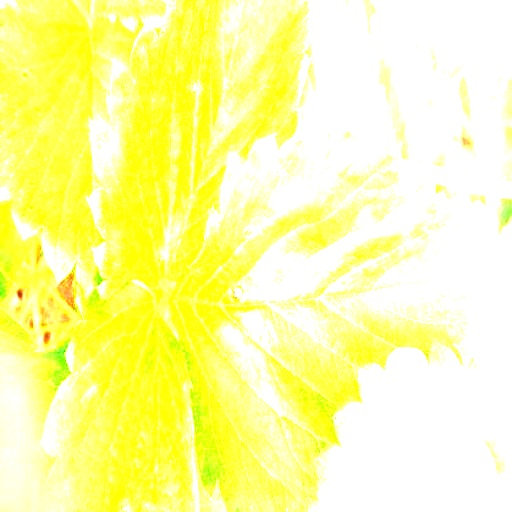Leaf Spot: (168, 125, 478, 511), (86, 0, 315, 301), (42, 283, 200, 511), (314, 344, 511, 511), (455, 200, 511, 418)
